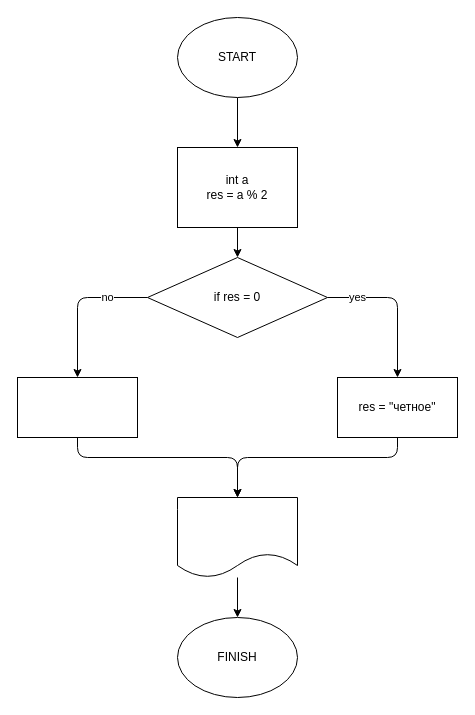
Some shapes in this 475 by 715 pixel diagram are drawn without their labels. Here are the shapes that lost their labels. From the top down, the box of each, then its label:
(16, 376, 138, 438): res = "не четное"
(176, 496, 298, 578): print res
